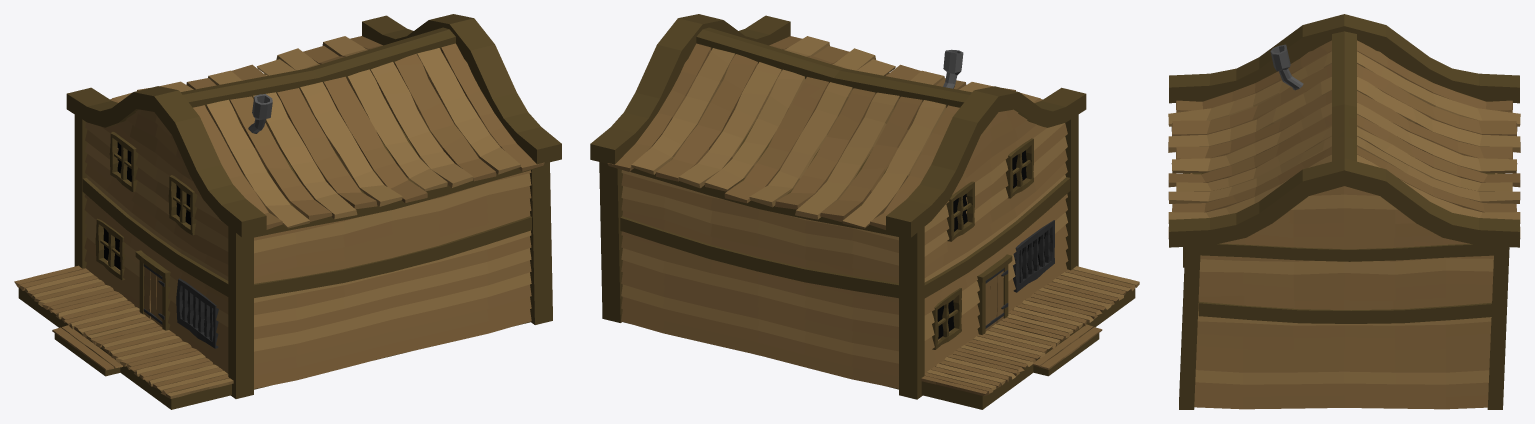
File: BuildingGeneric.fbx
The picture shows the model from 3 angles, left to right: view 1: azimuth 30°, elevation 25°; view 2: azimuth 150°, elevation 25°; view 3: azimuth 270°, elevation 25°; orthographic projection.
Visible parts, largest first — view 1: Cube.009; view 2: Cube.009; view 3: Cube.009.
Part boxes in pixels (x1,y1,x2,y2): Cube.009: [14, 14, 561, 409]; Cube.009: [590, 14, 1139, 409]; Cube.009: [1168, 14, 1520, 409].
Size of the model in its own units: 1200 by 719 by 923.
